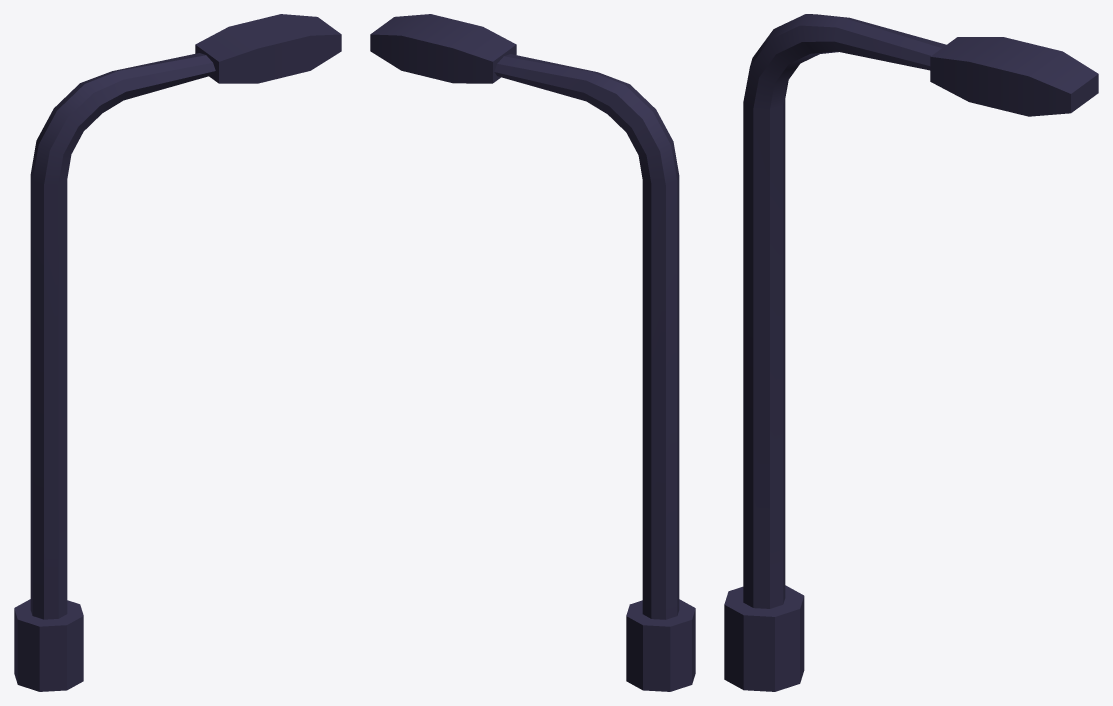
File: Street Light.fbx
The picture shows the model from 3 angles, left to right: view 1: azimuth 30°, elevation 25°; view 2: azimuth 150°, elevation 25°; view 3: azimuth 330°, elevation 25°; orthographic projection. The views are drawn at different scales.
Visible parts, largest first — view 1: Street Light; view 2: Street Light; view 3: Street Light.
Boxes of the visible parts, bbox=[...] form: Street Light: bbox=[14, 14, 341, 691]; Street Light: bbox=[370, 14, 695, 691]; Street Light: bbox=[724, 14, 1098, 691].
Size of the model in its own units: 195 by 39.12 by 355.
